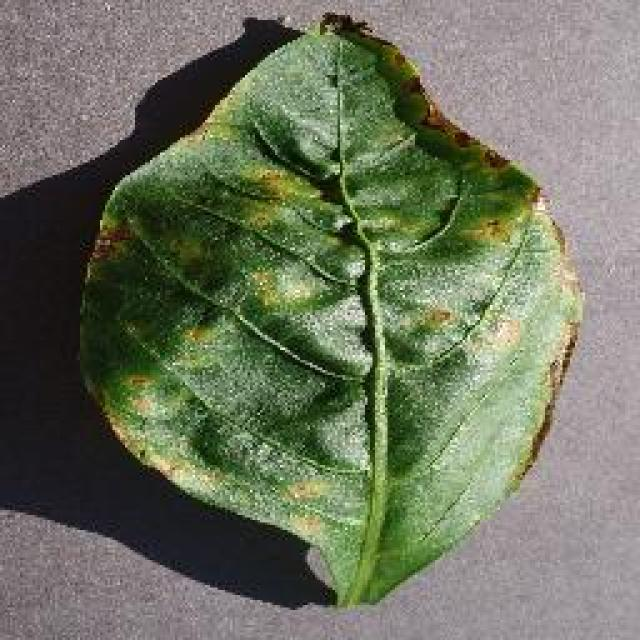Chilli_Bacterial_Spot: (75, 12, 585, 608), (162, 230, 210, 278), (85, 217, 133, 265), (278, 472, 332, 508), (242, 265, 282, 313), (407, 300, 455, 338), (462, 212, 512, 248), (483, 313, 525, 355), (250, 165, 288, 205)
